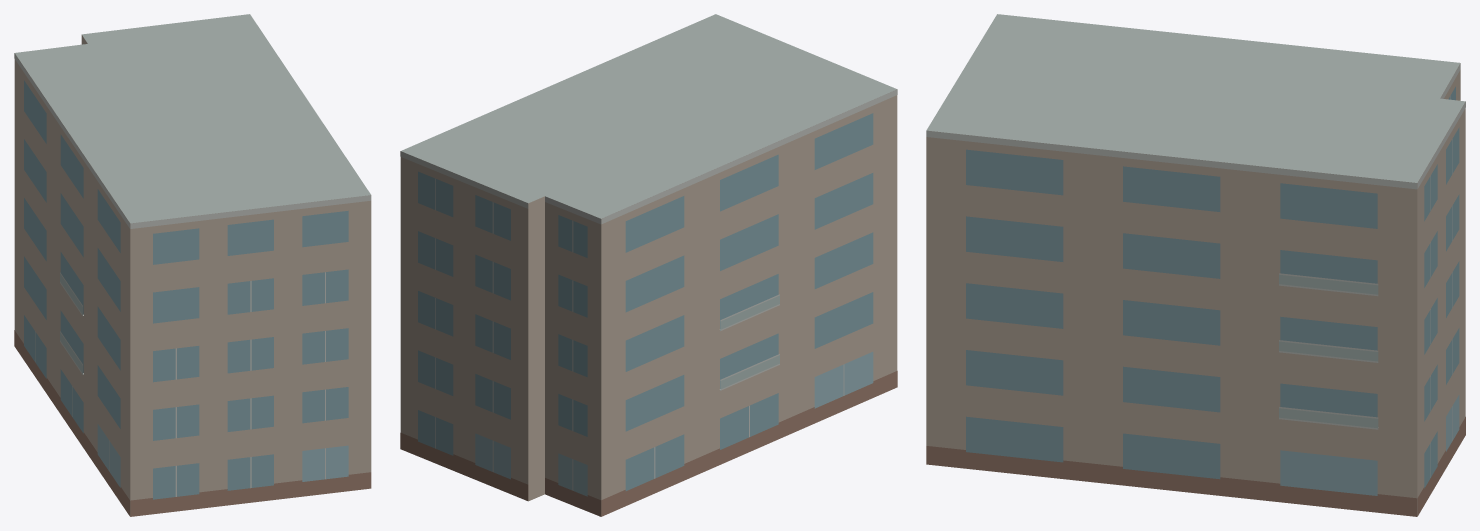
Rendered from survey-upis-32538074.glb.
3 renders of one model, left to right at view 1: azimuth 30°, elevation 25°; view 2: azimuth 150°, elevation 25°; view 3: azimuth 270°, elevation 25°, orthographic. The views are drawn at different scales.
Visible parts, largest first — view 1: survey-upis-32538074.tmp; view 2: survey-upis-32538074.tmp; view 3: survey-upis-32538074.tmp.
Part boxes in pixels (<box>): survey-upis-32538074.tmp: <box>14,14,371,516</box>; survey-upis-32538074.tmp: <box>400,14,897,516</box>; survey-upis-32538074.tmp: <box>926,14,1465,516</box>.
Bounding box in the file's own units: 13.8 × 12.7 × 18.61.
